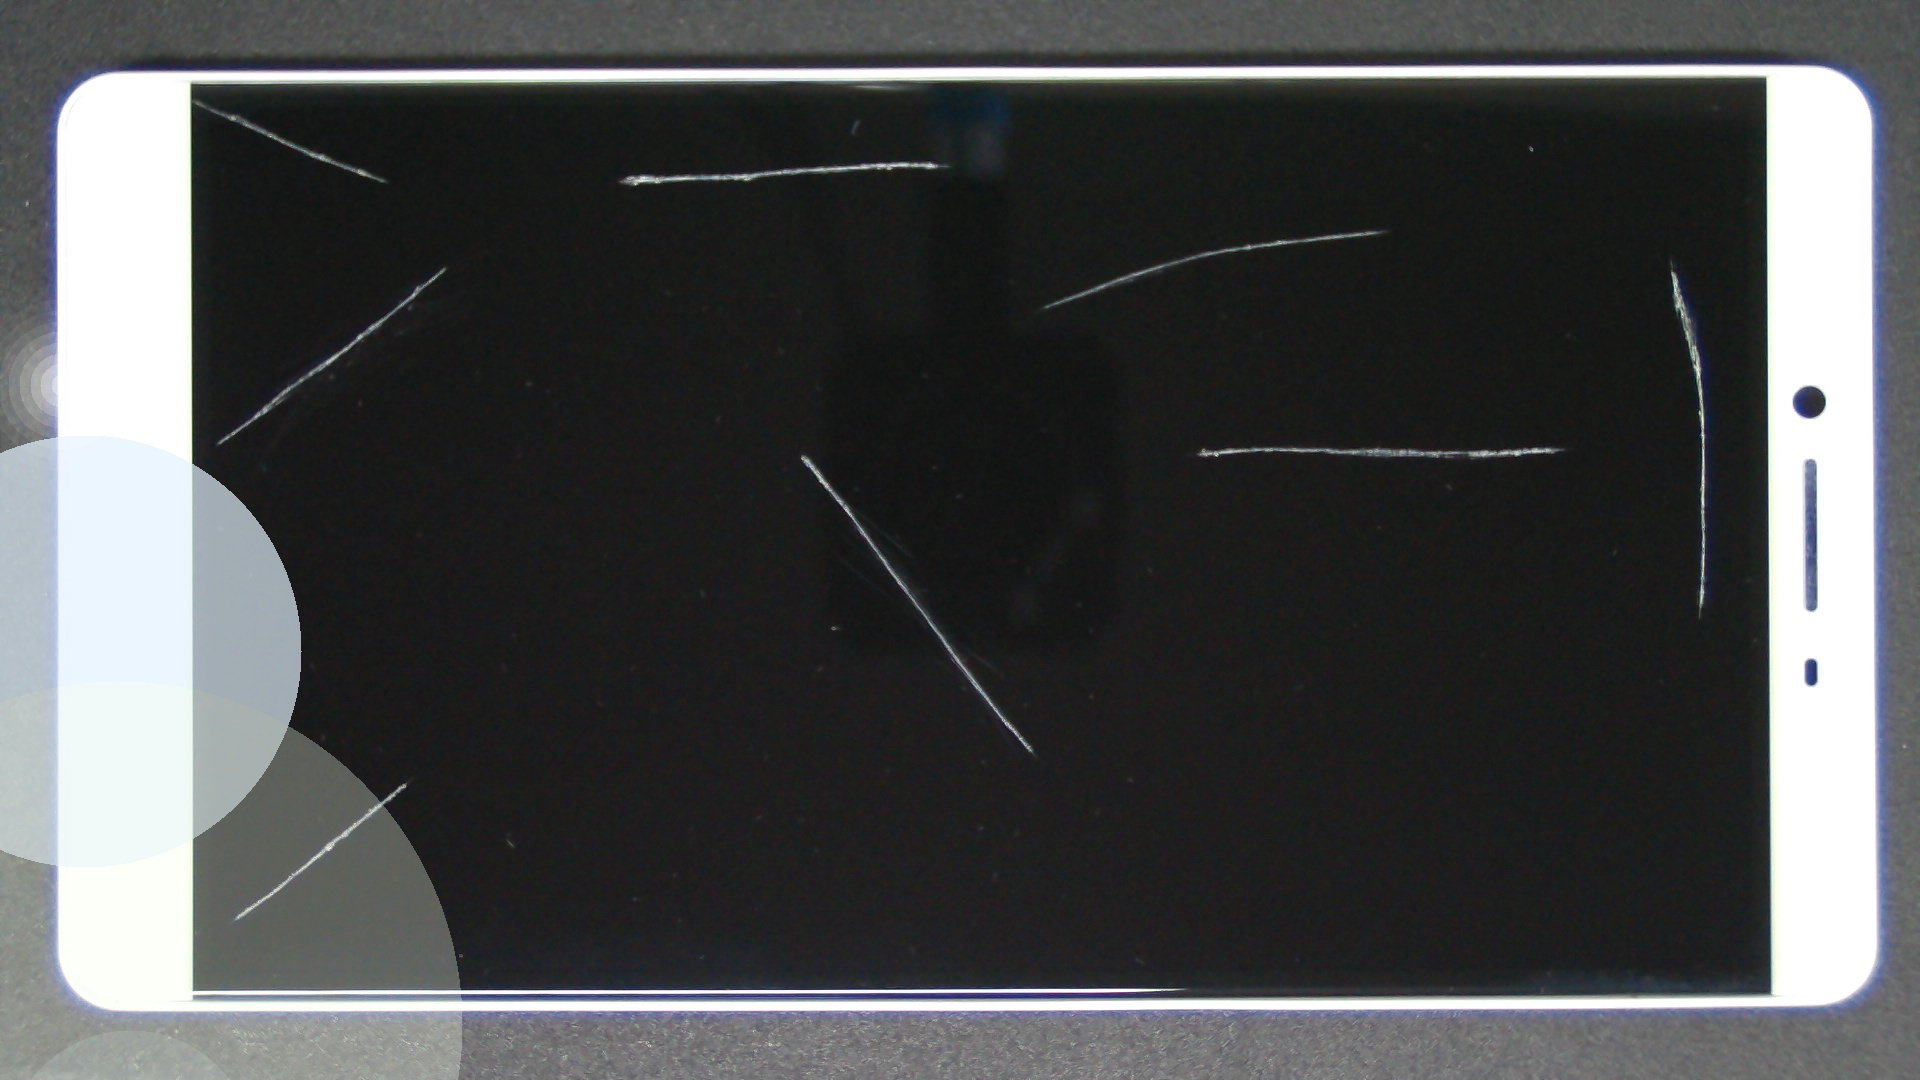oil: (775, 222, 1920, 669), (401, 225, 1200, 679), (695, 113, 1920, 344), (836, 128, 1920, 388), (204, 390, 612, 1080), (465, 79, 1393, 240), (223, 132, 666, 398), (96, 47, 290, 148)
